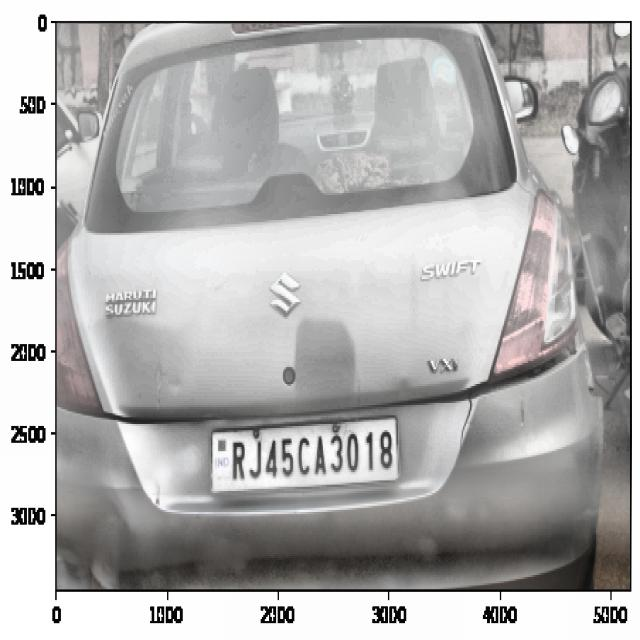license_plate: (217, 423, 401, 487)
